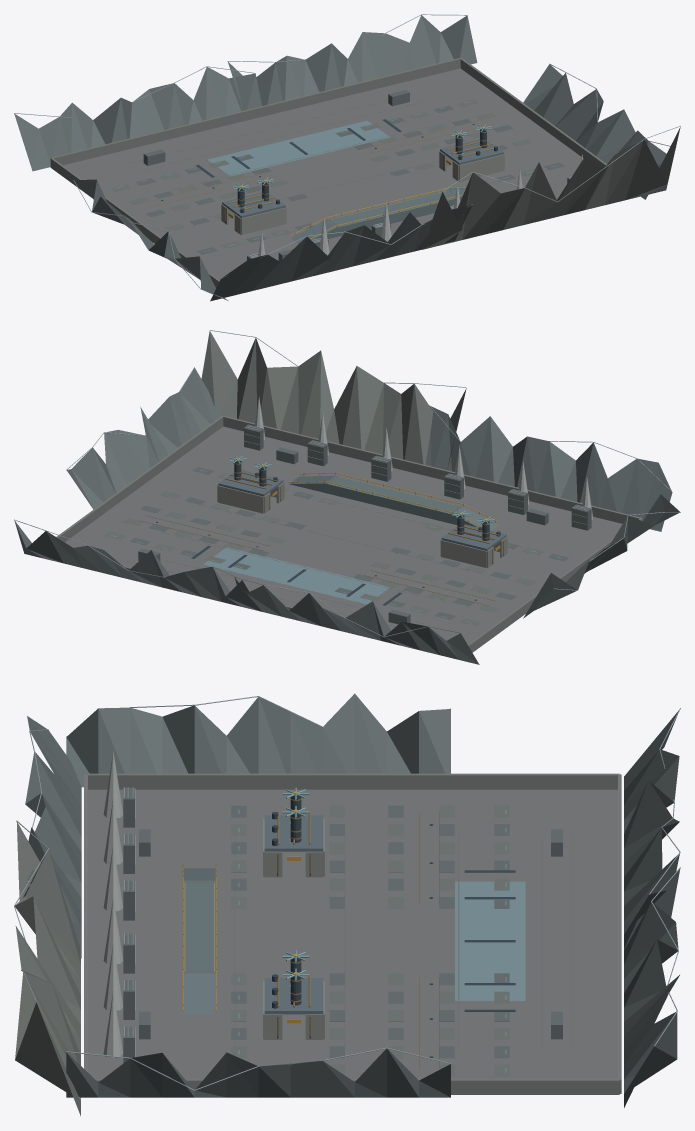
The model's file is thermal-divide.glb.
3 renders of one model, top to bottom at view 1: azimuth 30°, elevation 25°; view 2: azimuth 150°, elevation 25°; view 3: azimuth 270°, elevation 25°, orthographic. The views are drawn at different scales.
Visible parts, largest first — view 1: batch.granite, batch.basalt, batch.sediment, batch.retaining, batch.spillway, batch.iron, batch.plaster, batch.salt, batch.roof, batch.charcoal, batch.bronze, batch.snowcap (+2 smaller); view 2: batch.granite, batch.basalt, batch.sediment, batch.retaining, batch.iron, batch.spillway, batch.plaster, batch.salt, batch.roof, batch.snowcap, batch.bronze, batch.charcoal (+1 smaller); view 3: batch.granite, batch.basalt, batch.sediment, batch.retaining, batch.spillway, batch.iron, batch.snowcap, batch.roof, batch.salt, batch.plaster, batch.charcoal, batch.bronze (+2 smaller).
Part boxes in pixels (x1,y1,x2,y2): batch.granite: (63, 68, 583, 279); batch.basalt: (14, 15, 666, 301); batch.sediment: (111, 94, 680, 249); batch.retaining: (50, 58, 606, 287); batch.spillway: (207, 120, 389, 176); batch.iron: (238, 145, 487, 243); batch.plaster: (221, 151, 504, 234); batch.salt: (14, 14, 680, 289); batch.roof: (222, 139, 503, 218); batch.charcoal: (161, 119, 497, 230); batch.bronze: (144, 118, 493, 228); batch.snowcap: (258, 154, 582, 256); batch.granite: (65, 426, 622, 644); batch.basalt: (14, 368, 679, 664); batch.sediment: (105, 331, 543, 626); batch.retaining: (56, 415, 642, 652); batch.iron: (241, 472, 499, 539); batch.spillway: (203, 547, 390, 604); batch.plaster: (217, 482, 507, 567); batch.salt: (14, 330, 680, 637); batch.roof: (218, 470, 506, 550); batch.snowcap: (254, 396, 593, 520); batch.bronze: (139, 462, 503, 605); batch.charcoal: (156, 459, 503, 605); batch.granite: (88, 789, 619, 1094); batch.basalt: (25, 693, 680, 1107); batch.sediment: (15, 805, 572, 1116); batch.retaining: (84, 773, 621, 1094); batch.spillway: (455, 881, 525, 1000); batch.iron: (183, 865, 216, 1014); batch.snowcap: (103, 751, 123, 1057); batch.roof: (264, 815, 323, 1014); batch.salt: (14, 696, 680, 1090); batch.plaster: (263, 818, 324, 1039); batch.charcoal: (272, 794, 515, 1057); batch.bronze: (277, 797, 439, 1068).
Size of the model in its own units: 219 by 32.67 by 170.
